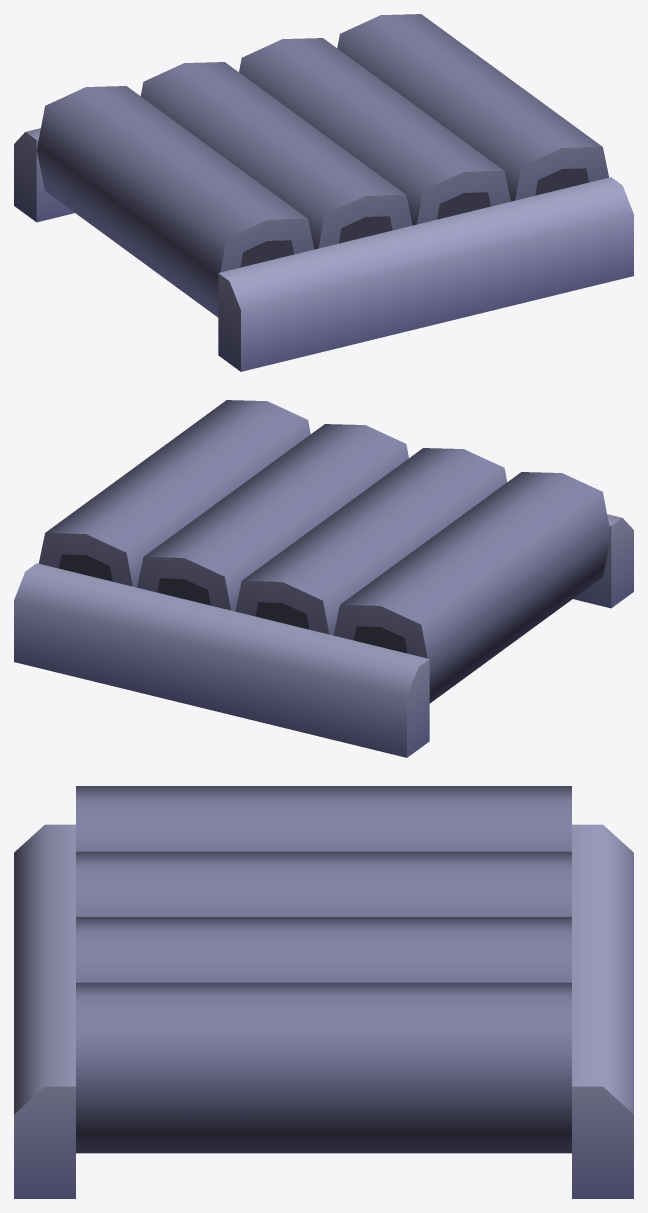
Rendered from kenney-factory-conveyor-bars-sides.glb.
3 renders of one model, top to bottom at view 1: azimuth 30°, elevation 25°; view 2: azimuth 150°, elevation 25°; view 3: azimuth 270°, elevation 25°, orthographic. The views are drawn at different scales.
Parts seen in each view (by area): view 1: conveyor-bars-sides; view 2: conveyor-bars-sides; view 3: conveyor-bars-sides.
Part boxes in pixels (box(x1,y1,x2,y2)): conveyor-bars-sides: box(14, 14, 633, 371); conveyor-bars-sides: box(14, 400, 633, 757); conveyor-bars-sides: box(14, 786, 633, 1198).
Size of the model in its own units: 1.5 by 0.45 by 1.5.
Materials: 1 (1 with a texture image).
